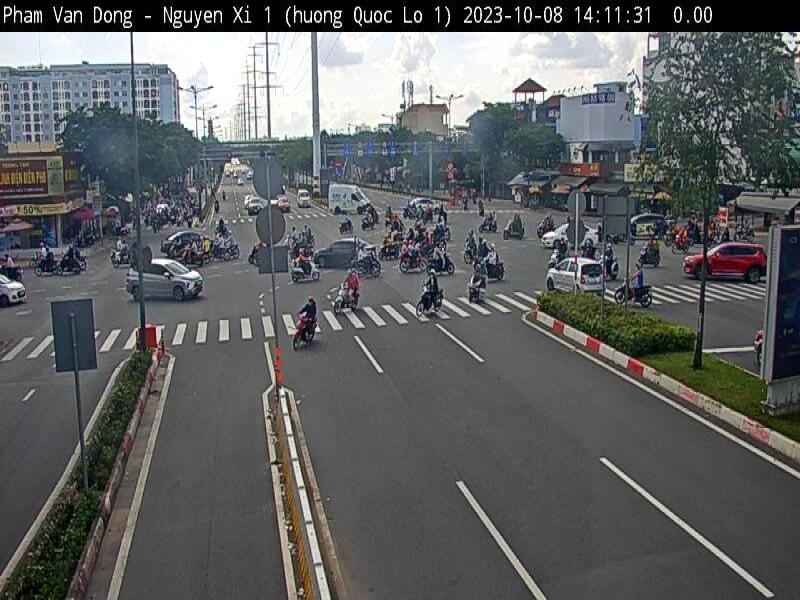car: (120, 253, 207, 309), (685, 236, 766, 292), (540, 249, 599, 296), (310, 233, 379, 270)
